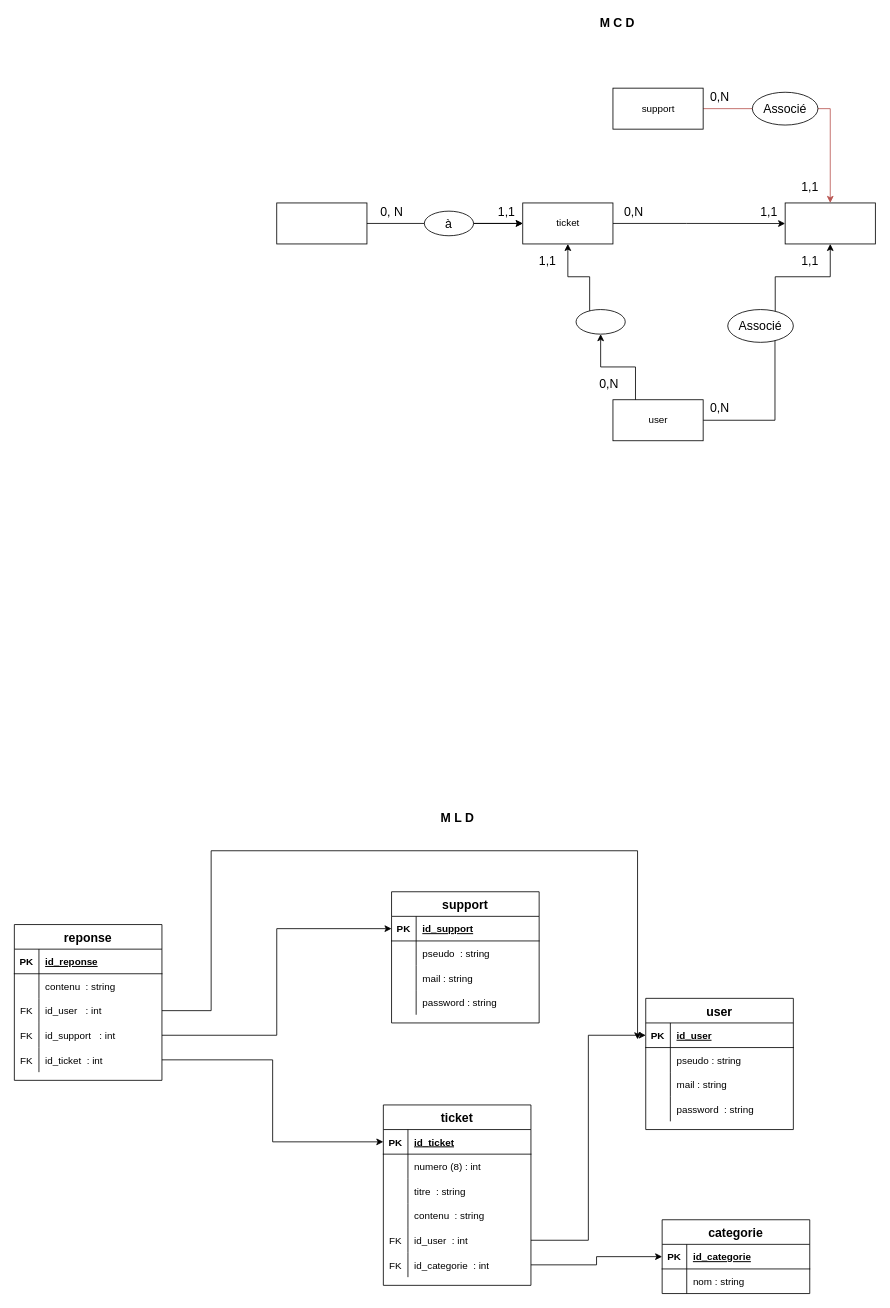
The diagram is 890 pixels wide and 1308 high, and some of its shapes have lost their labels. Here are the shapes that lost their labels. From the top down, the centre of each, then its label:
At point (321, 223): "catégorie".
At point (829, 223): "réponse".
At point (600, 321): "CREER".
